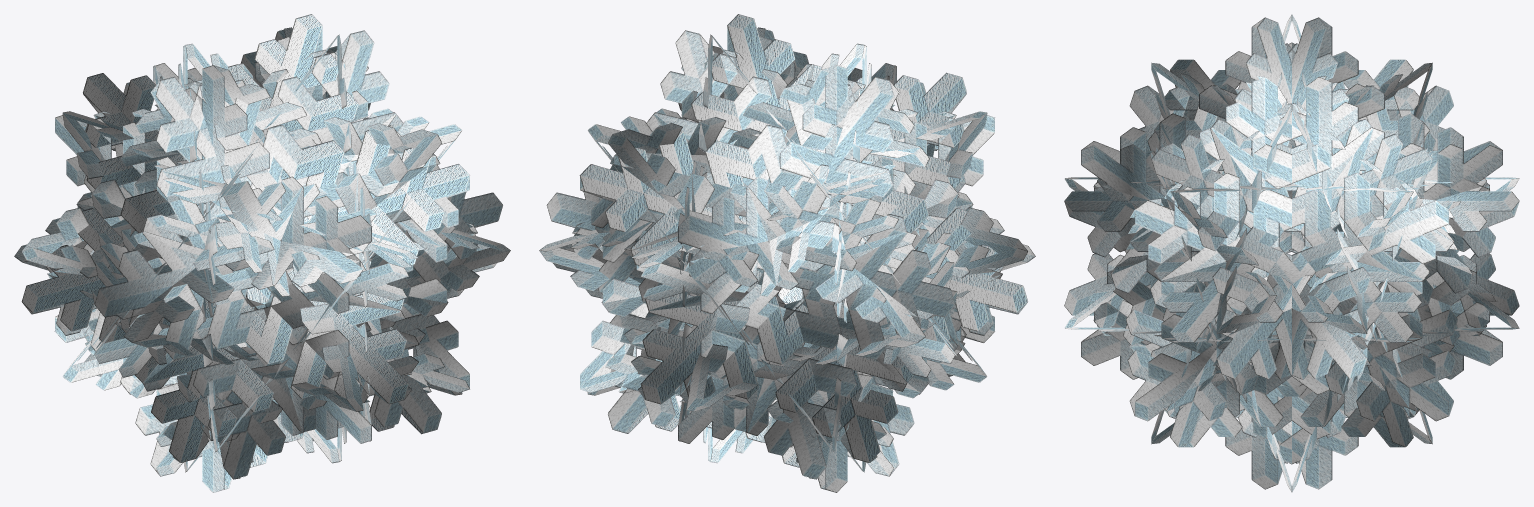
File: TruncatedGreatIcosahedron44.gltf
3 views of the same model, side by side, from view 1: azimuth 30°, elevation 25°; view 2: azimuth 150°, elevation 25°; view 3: azimuth 270°, elevation 25° (orthographic). The views are drawn at different scales.
Visible parts, largest first — view 1: TruncatedGreatIcosahedron; view 2: TruncatedGreatIcosahedron; view 3: TruncatedGreatIcosahedron.
Boxes of the visible parts, x1,y1,x2,y2 form: TruncatedGreatIcosahedron: (14, 14, 510, 492); TruncatedGreatIcosahedron: (539, 14, 1035, 492); TruncatedGreatIcosahedron: (1064, 14, 1519, 492).
Bounding box in the file's own units: 2 × 2 × 2.
1 material, 1 textured.
